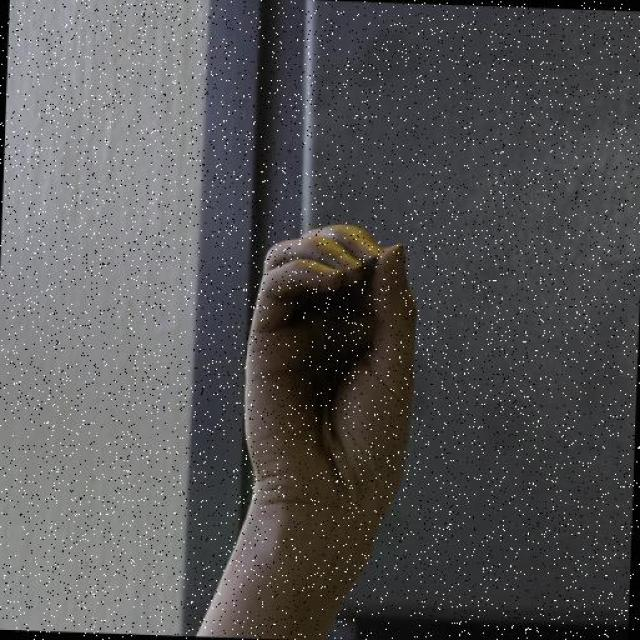O: (239, 214, 426, 516)
